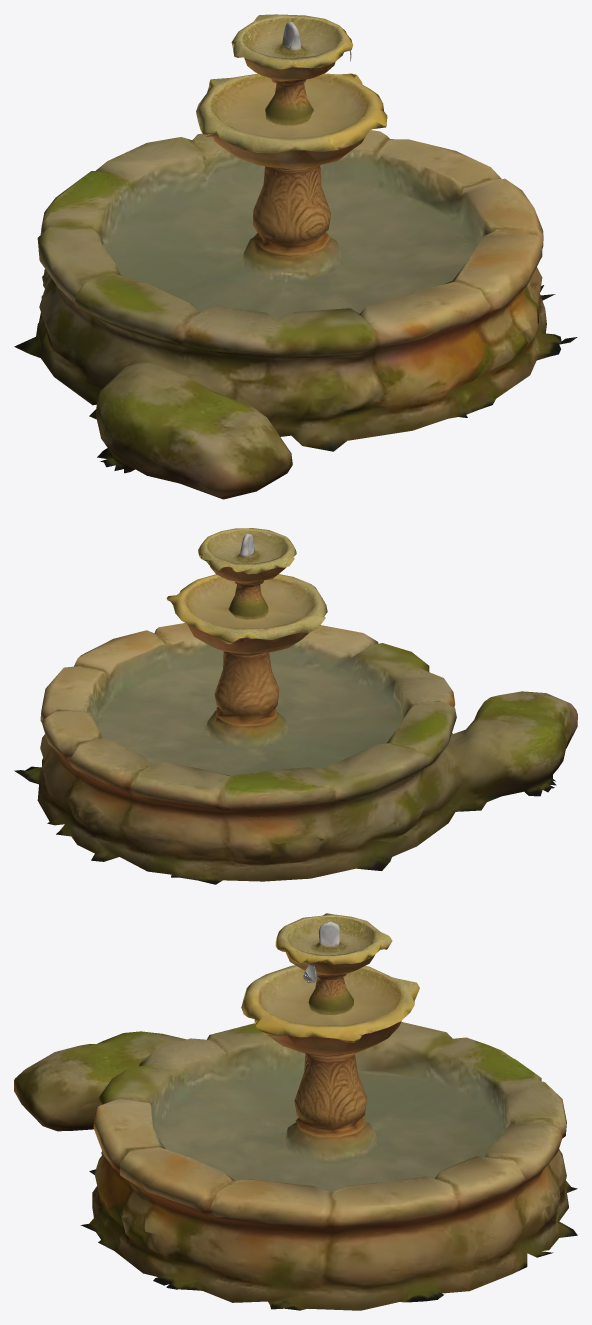
Rendered from civic_fountain.glb.
3 renders of one model, top to bottom at view 1: azimuth 30°, elevation 25°; view 2: azimuth 150°, elevation 25°; view 3: azimuth 270°, elevation 25°, orthographic. The views are drawn at different scales.
Parts seen in each view (by area): view 1: tripo_node_e4fffb12-c101-44a5-9700-1353ba90b192; view 2: tripo_node_e4fffb12-c101-44a5-9700-1353ba90b192; view 3: tripo_node_e4fffb12-c101-44a5-9700-1353ba90b192.
Boxes of the visible parts, x1,y1,x2,y2 form: tripo_node_e4fffb12-c101-44a5-9700-1353ba90b192: (14, 14, 577, 499); tripo_node_e4fffb12-c101-44a5-9700-1353ba90b192: (14, 528, 577, 884); tripo_node_e4fffb12-c101-44a5-9700-1353ba90b192: (14, 913, 577, 1310).
Size of the model in its own units: 5.98 by 3.5 by 6.15.
Materials: 1 (1 with a texture image).
